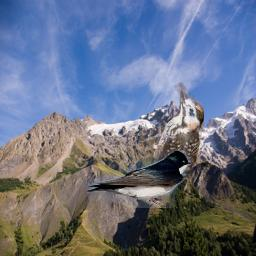Swallow: (86, 150, 191, 208)
Woodpecker: (140, 82, 204, 178)
